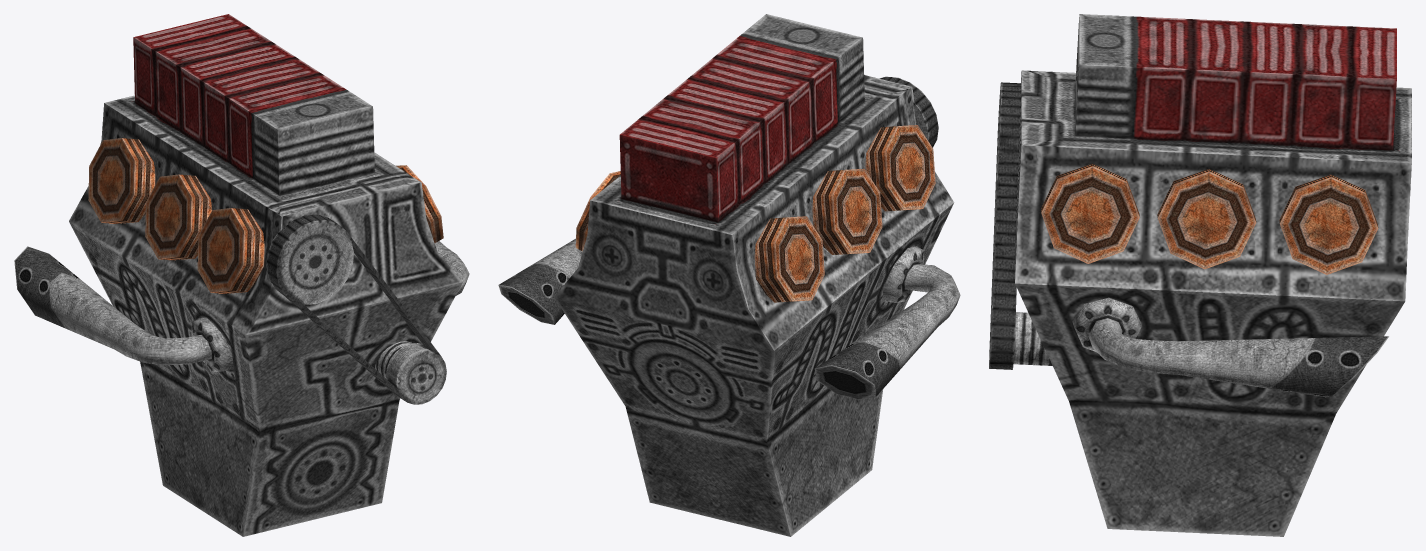
Rendered from HEAD_CHIBI_CAR_ENGINE.fbx.
3 renders of one model, left to right at view 1: azimuth 30°, elevation 25°; view 2: azimuth 150°, elevation 25°; view 3: azimuth 270°, elevation 25°, orthographic. The views are drawn at different scales.
Visible parts, largest first — view 1: Car_Engine; view 2: Car_Engine; view 3: Car_Engine.
Boxes of the visible parts, x1,y1,x2,y2 form: Car_Engine: (14,14,469,536); Car_Engine: (498,14,960,536); Car_Engine: (989,14,1411,536).
Bounding box in the file's own units: 0.0472 × 0.0514 × 0.0428.
